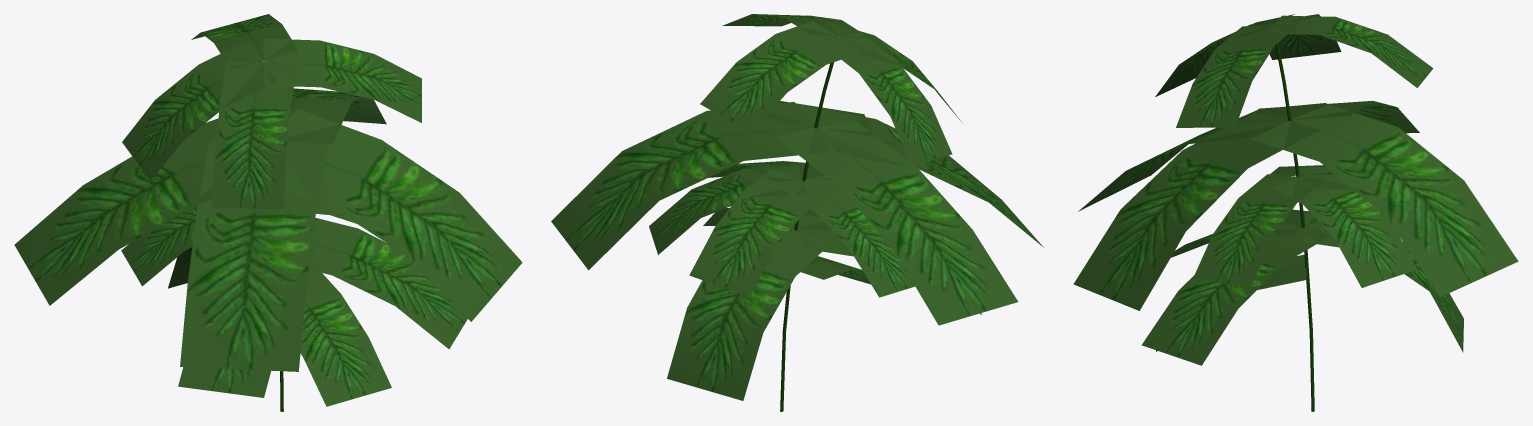
The model's file is LVL_RIV_LONGLEAF.fbx.
3 views of the same model, side by side, from view 1: azimuth 30°, elevation 25°; view 2: azimuth 150°, elevation 25°; view 3: azimuth 270°, elevation 25° (orthographic).
Parts seen in each view (by area): view 1: LVL_RIV_LONGLEAF; view 2: LVL_RIV_LONGLEAF; view 3: LVL_RIV_LONGLEAF.
Part boxes in pixels (x1=…): LVL_RIV_LONGLEAF: x1=14, y1=14, x2=522, y2=411; LVL_RIV_LONGLEAF: x1=551, y1=14, x2=1043, y2=411; LVL_RIV_LONGLEAF: x1=1073, y1=14, x2=1518, y2=411.
Size of the model in its own units: 26133 by 23638 by 25258.
Materials: 2 (2 with a texture image).
